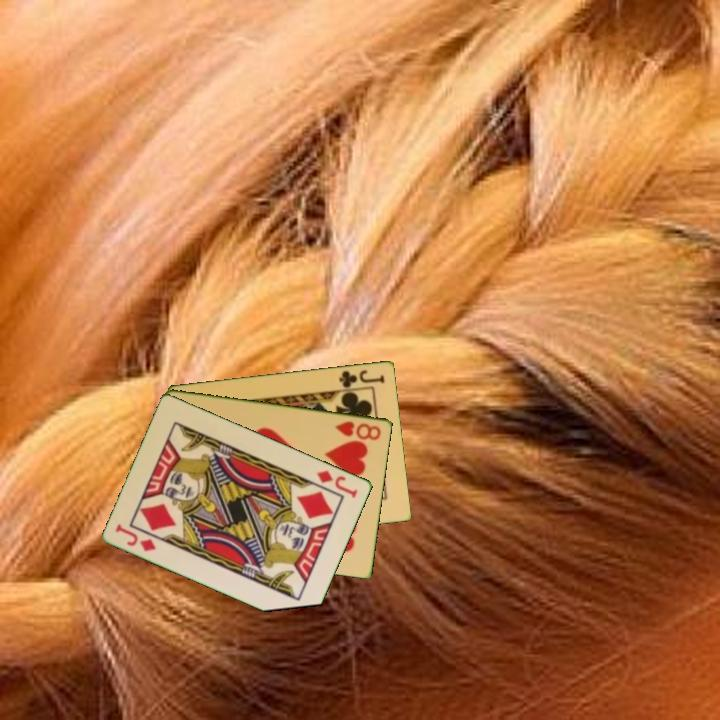8h: (332, 417, 384, 443)
Jc: (336, 366, 388, 391)
Jd: (313, 466, 361, 501), (112, 520, 159, 554)
